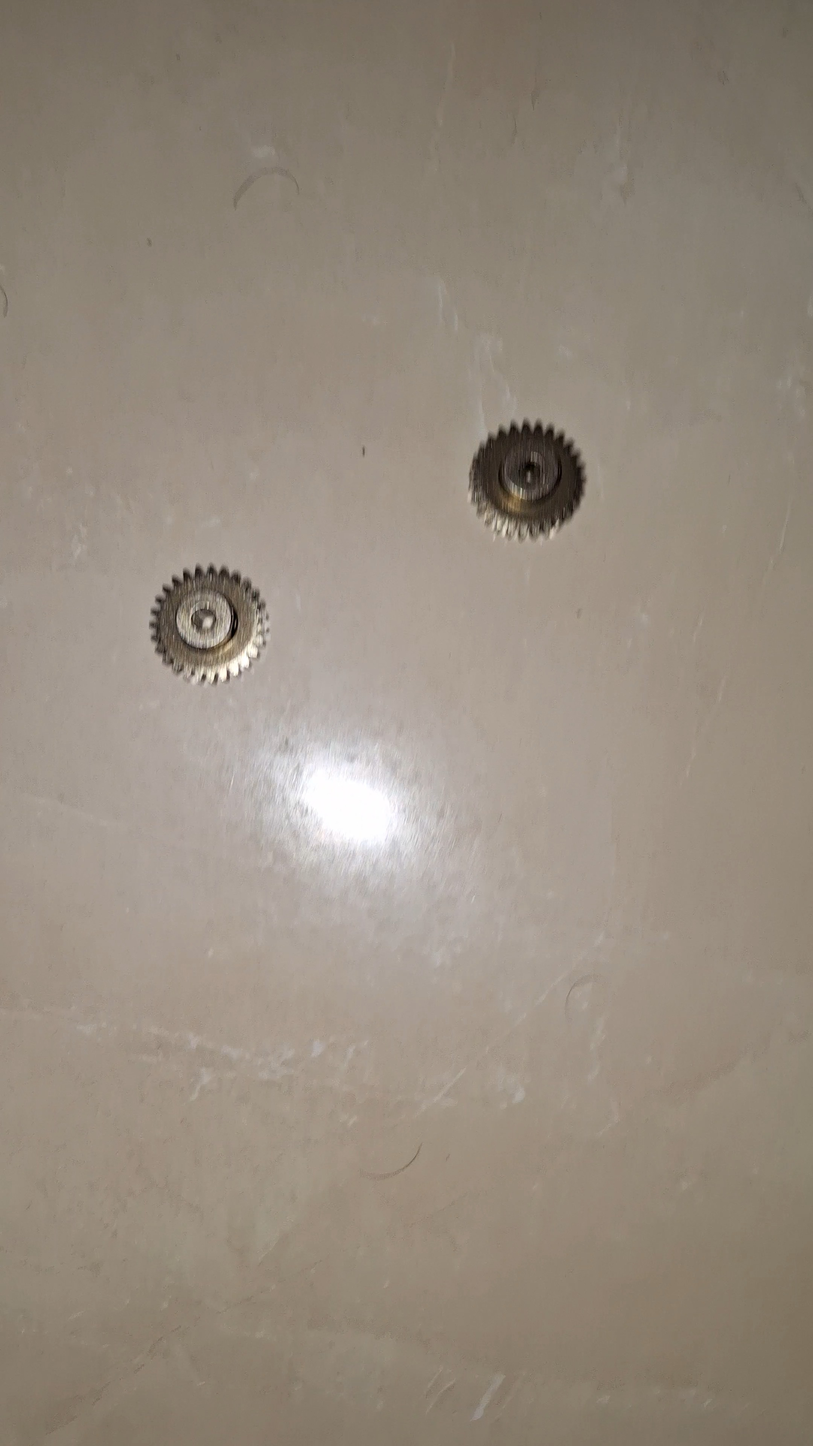spur gear: (151, 566, 265, 683), (470, 422, 584, 538)
